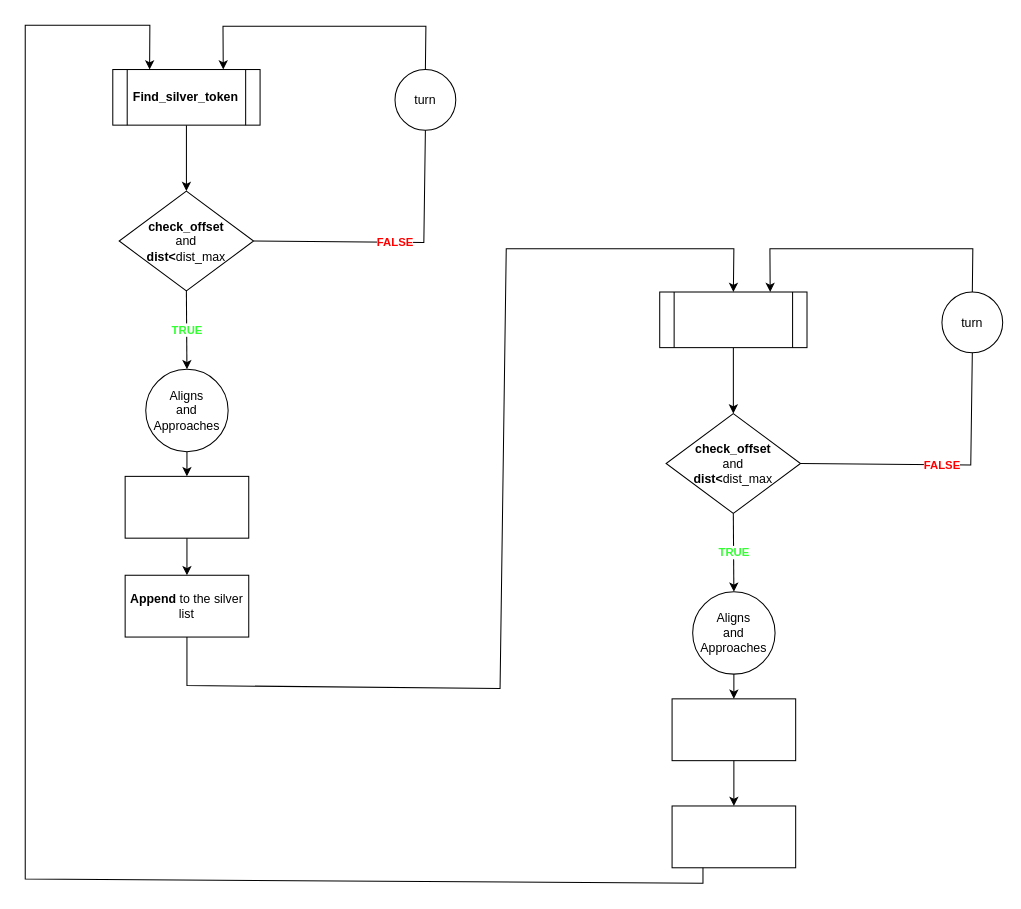
Some shapes in this 1021 by 909 pixel diagram are drawn without their labels. Each missing label, with the box of its shape:
Append to the golden list: (671, 805, 796, 868)
Find_golden_token: (659, 291, 807, 348)
Grab token: (124, 475, 249, 538)
Release token: (671, 698, 796, 761)
